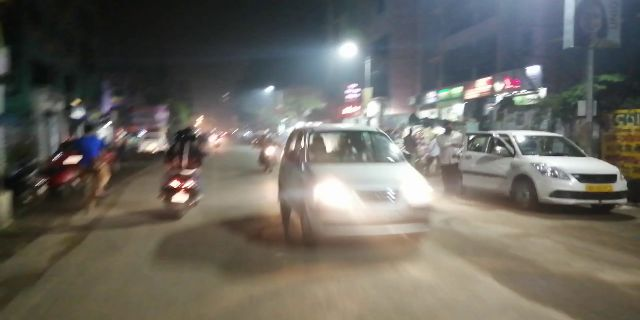Car: (281, 123, 443, 248), (474, 125, 630, 212)
Motorbike: (168, 126, 203, 217)
